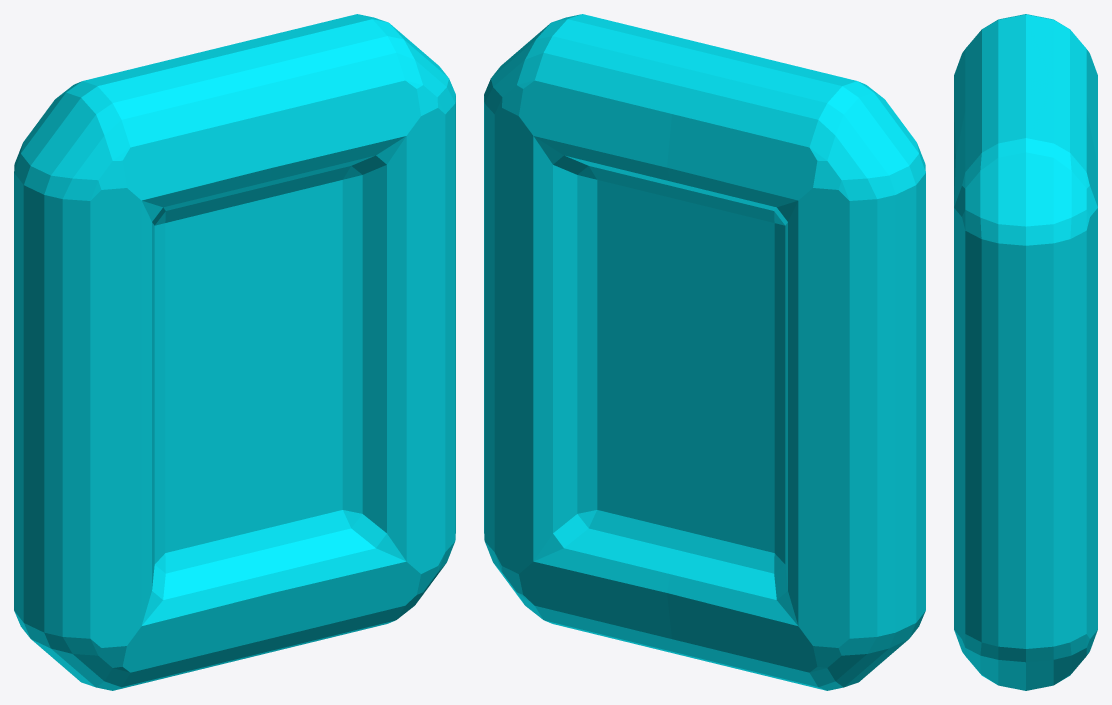
The model's file is turmaline.glb.
3 renders of one model, left to right at view 1: azimuth 30°, elevation 25°; view 2: azimuth 150°, elevation 25°; view 3: azimuth 270°, elevation 25°, orthographic. The views are drawn at different scales.
Parts seen in each view (by area): view 1: Turmalina; view 2: Turmalina; view 3: Turmalina.
Part boxes in pixels (x1,y1,x2,y2): Turmalina: (14,14,455,690); Turmalina: (484,14,925,690); Turmalina: (954,14,1097,690).
Size of the model in its own units: 0.7401 by 1 by 0.2372.
